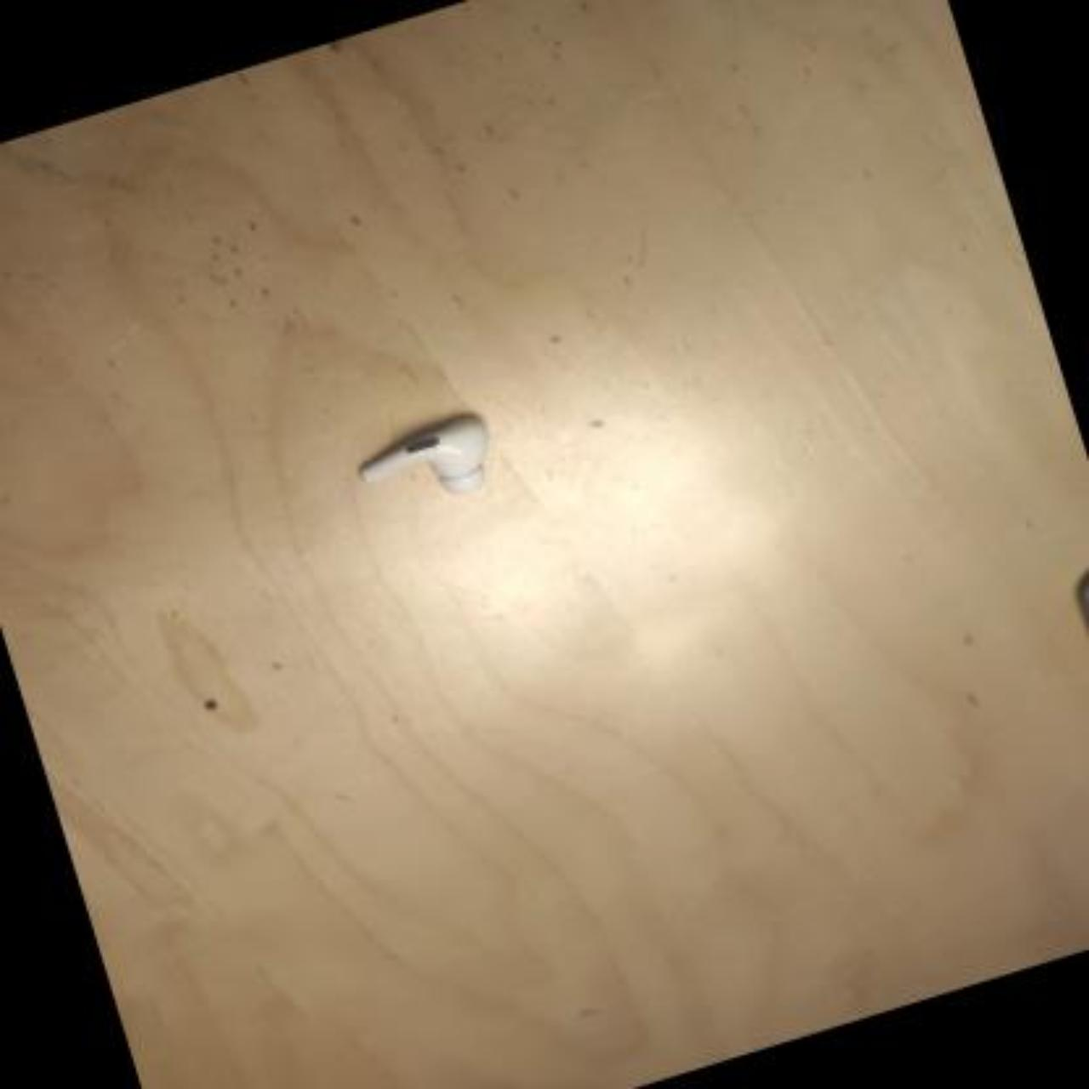Airpods_Units: (342, 419, 504, 524)
